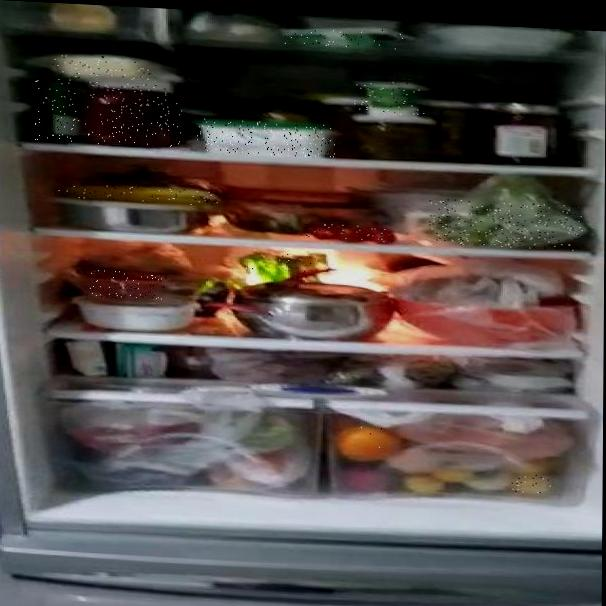banana: (57, 182, 220, 206)
cheese: (197, 118, 335, 158), (52, 53, 155, 81)
cream cheese: (284, 25, 406, 50)
lemon: (512, 474, 552, 495), (404, 473, 447, 492)
lettuce: (429, 198, 583, 251)
mineral water: (34, 72, 81, 142), (244, 249, 323, 277)
orange: (333, 424, 398, 460)
tomato: (86, 270, 167, 301), (305, 223, 393, 243)
tomato paste: (85, 81, 183, 148)
yoghurt: (355, 80, 424, 116)
